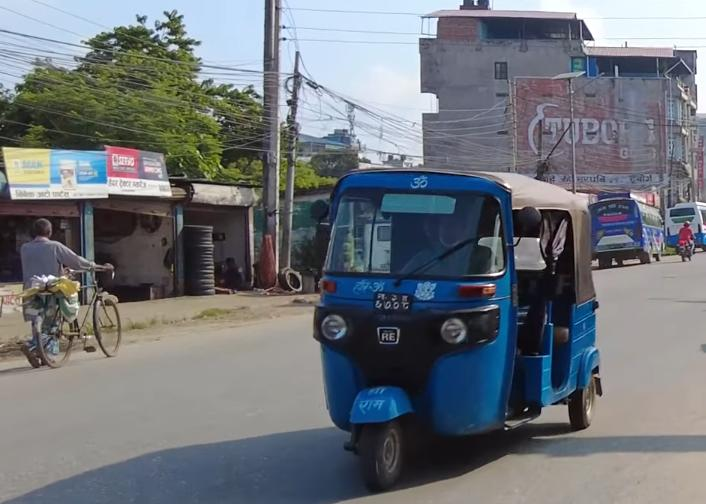auto_rickshaw: (310, 164, 614, 499)
bus: (587, 189, 669, 269), (659, 196, 706, 251)
